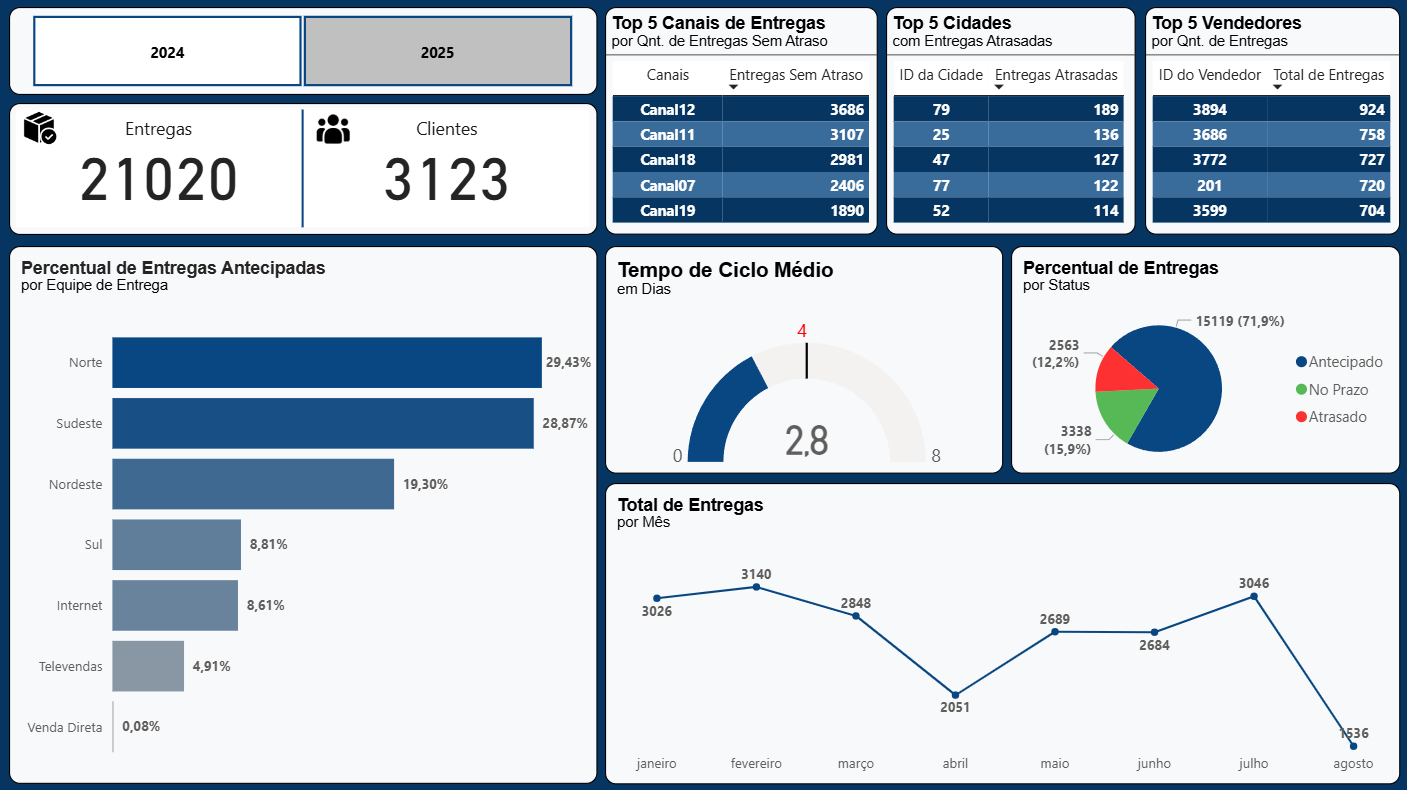

What the dashboard file says about the page in this screenshot:
{"tool":"powerbi","page":{"name":"Dashboard","canvas":[1280,720],"ordinal":0},"visuals":[{"type":"tableEx","title":"Top 5 Canais de Entregas","fields":{"Values":["Logistica.Canal_Entrega","Tabela.Entregas_no_Prazo"]},"box":[550,7.3,248.2,207.3],"z":0},{"type":"barChart","title":"Percentual de Entregas Antecipadas","fields":{"Category":["Logistica.Equipe_Entrega"],"Y":["Medidas.Entregas_Antecipadas"]},"box":[8.2,224.5,535.5,489.1],"z":1000},{"type":"lineChart","title":"Total de Entregas","fields":{"Y":["Medidas.Total_Entregas"],"Category":["Logistica.Data_Entrega_Realizada.Variation.Hierarquia de datas.Mês"]},"box":[550,440,722.7,273.6],"z":2000},{"type":"tableEx","title":"Top 5 Vendedores","fields":{"Values":["Logistica.ID_Vendedor","Tabela.Total_Entregas"]},"box":[1040.9,7.3,231.8,207.3],"z":3000},{"type":"tableEx","title":"Top 5 Cidades","fields":{"Values":["Logistica.ID_Cidade","Tabela.Entragas_Atrasadas"]},"box":[805.5,7.3,227.3,207.3],"z":4000},{"type":"pieChart","title":"Percentual de Entregas","fields":{"Category":["Logistica.Status_Entrega"],"Y":["Divide(CountNonNull(Logistica.Status_Entrega), ScopedEval(CountNonNull(Logistica.Status_Entrega), []))"]},"box":[919.1,224.5,353.6,207.3],"z":5000},{"type":"gauge","title":"Tempo de Ciclo Médio","fields":{"Y":["Avg(Logistica.Dias_Entrega)"]},"box":[550,224.5,361.8,207.3],"z":6000},{"type":"cardVisual","title":"Entregas","fields":{"Data":["Medidas.Total_Entregas","Count(Logistica.ID_Cliente)"]},"box":[8.2,94.9,535.5,119.6],"z":7000,"group":"g1"},{"type":"slicer","title":"Selecione o Período","fields":{"Values":["Logistica.Data_Entrega_Realizada.Variation.Hierarquia de datas.Ano"]},"box":[8.2,7.3,534.5,80],"z":8000},{"type":"image","box":[8.2,94.5,55.4,46],"z":9000,"group":"g1"},{"type":"image","box":[280.6,98.1,44.7,39.7],"z":10000,"group":"g1"},{"type":"group","id":"g1","title":"Grupo 1","box":[8.2,94.5,535.5,120],"z":10001}]}

Visuals, with their boxes in screenshot pixels (x1, y1, x2, y2), scaled from the page's 1280x720 canvas onto the 1407x790 screenshot:
"Top 5 Canais de Entregas" tableEx: left=605, top=8, right=877, bottom=235
"Percentual de Entregas Antecipadas" barChart: left=9, top=246, right=598, bottom=783
"Total de Entregas" lineChart: left=605, top=483, right=1399, bottom=783
"Top 5 Vendedores" tableEx: left=1144, top=8, right=1399, bottom=235
"Top 5 Cidades" tableEx: left=885, top=8, right=1135, bottom=235
"Percentual de Entregas" pieChart: left=1010, top=246, right=1399, bottom=474
"Tempo de Ciclo Médio" gauge: left=605, top=246, right=1002, bottom=474
"Entregas" cardVisual: left=9, top=104, right=598, bottom=235
"Selecione o Período" slicer: left=9, top=8, right=597, bottom=96
image: left=9, top=104, right=70, bottom=154
image: left=308, top=108, right=358, bottom=151
"Grupo 1" group: left=9, top=104, right=598, bottom=235
